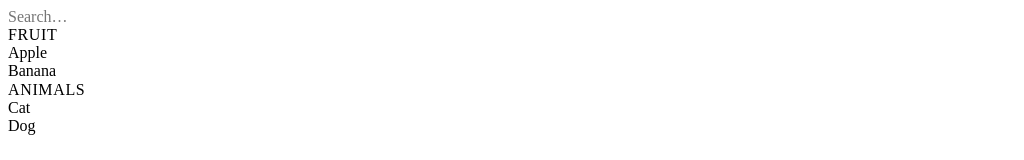
Spotlight › filtering › shows the Empty fallback when nothing matches
This screenshot has width=1024, height=160.
In the dropdown: {"x": 512, "y": 17} top-left (8, 8), bottom-right (1016, 26), type "zzzz"
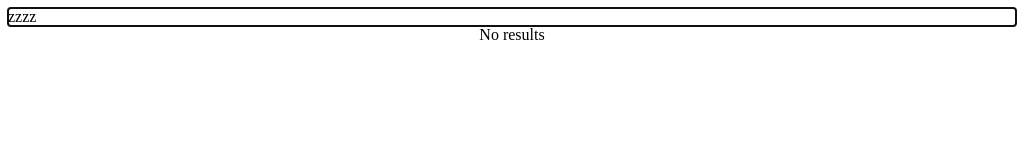
Result: the text "No results" is shown at top-left (479, 26), bottom-right (545, 43)
